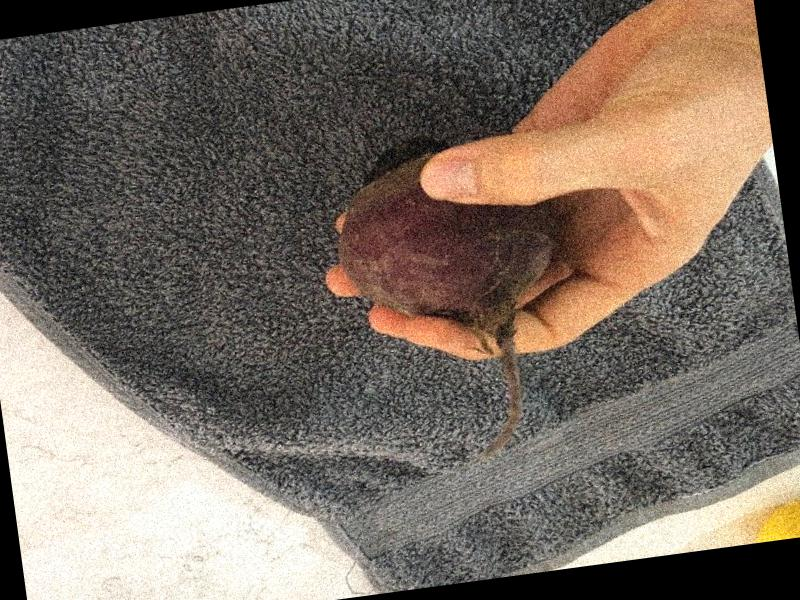Beet: (325, 121, 586, 474)
